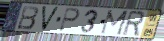3: (79, 8, 102, 35)
B: (16, 5, 40, 31)
M: (99, 9, 131, 37)
P: (57, 7, 81, 33)
R: (120, 10, 146, 38)
V: (40, 5, 60, 32)
